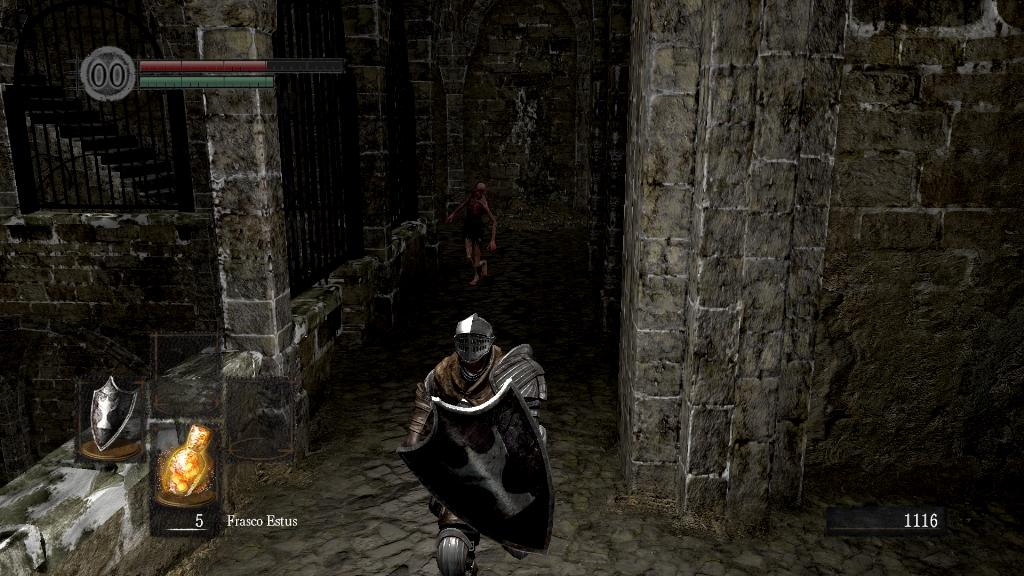health: (138, 58, 343, 71)
hollow: (446, 182, 500, 289)
humanity: (80, 45, 136, 102)
player: (394, 310, 557, 576)
souls: (825, 506, 945, 536)
stamina: (138, 74, 274, 88)
